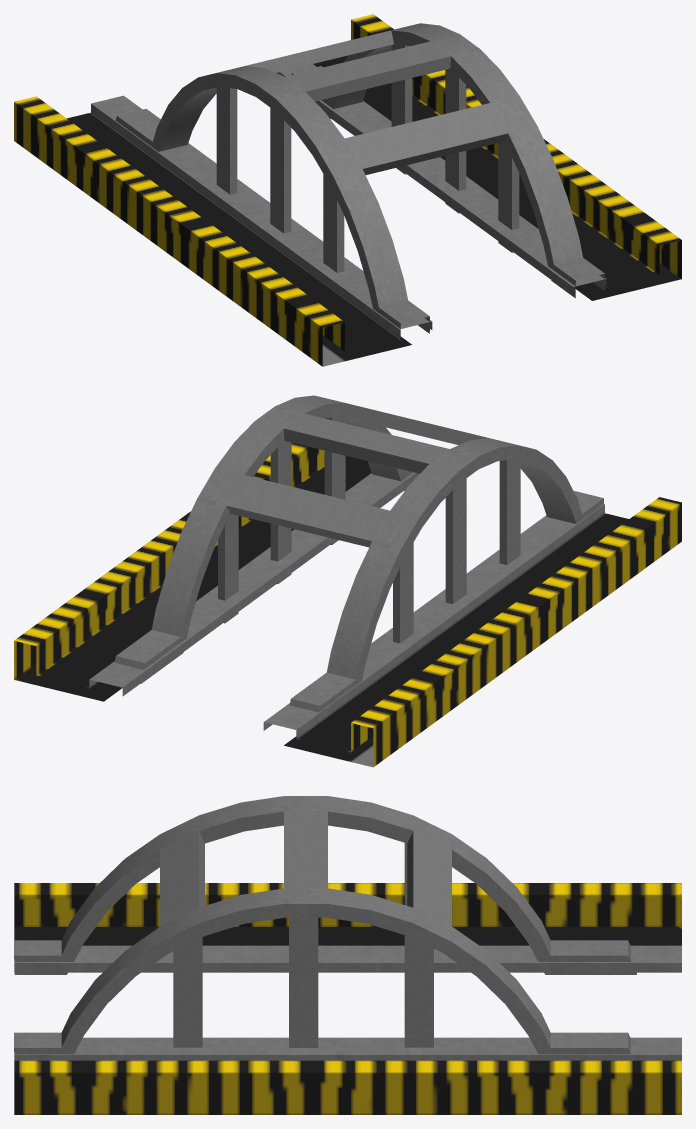
Rendered from BridgeFinished (1).fbx.
3 views of the same model, one above another, from view 1: azimuth 30°, elevation 25°; view 2: azimuth 150°, elevation 25°; view 3: azimuth 270°, elevation 25° (orthographic). The views are drawn at different scales.
Visible parts, largest first — view 1: bridge_.001; view 2: bridge_.001; view 3: bridge_.001.
Part boxes in pixels (<box>): bridge_.001: <box>14,14,681,366</box>; bridge_.001: <box>14,395,681,767</box>; bridge_.001: <box>14,796,681,1114</box>.
Size of the model in its own units: 9593 by 4123 by 14275.
1 material, 1 textured.
